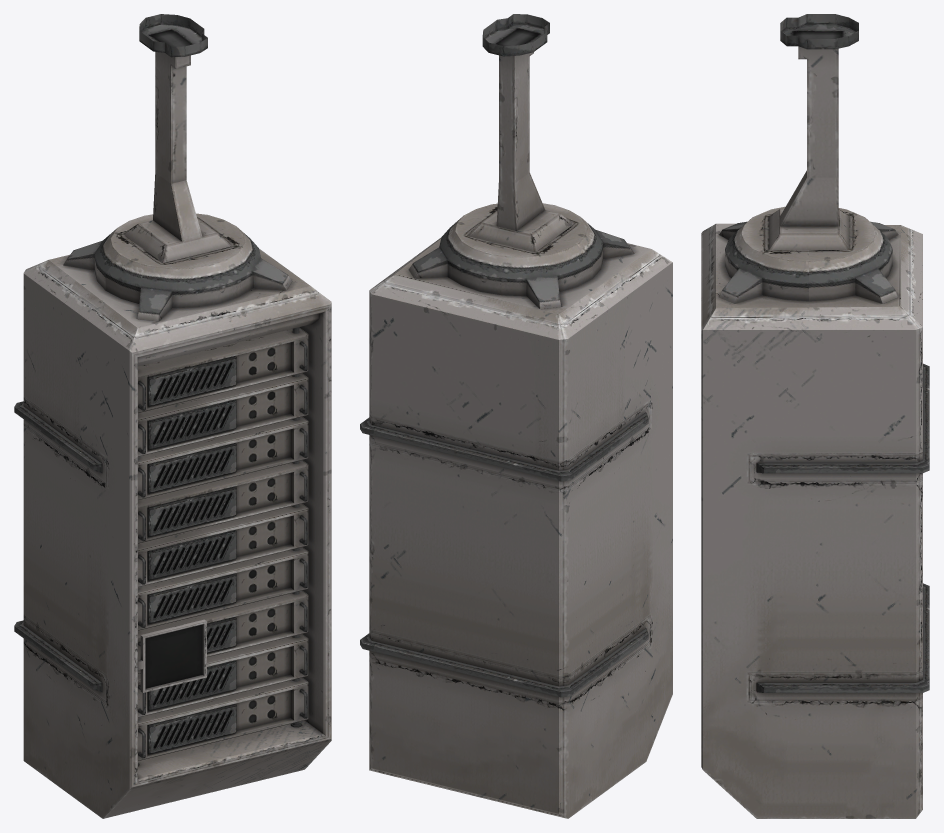
File: server_theta_hanging02.dae
The picture shows the model from 3 angles, left to right: view 1: azimuth 30°, elevation 25°; view 2: azimuth 150°, elevation 25°; view 3: azimuth 270°, elevation 25°; orthographic projection.
Visible parts, largest first — view 1: server_hanging; view 2: server_hanging; view 3: server_hanging.
Boxes of the visible parts, x1,y1,x2,y2 form: server_hanging: (14,14,331,818); server_hanging: (360,14,672,818); server_hanging: (701,14,929,818).
Size of the model in its own units: 1.7 by 5.64 by 1.57.
